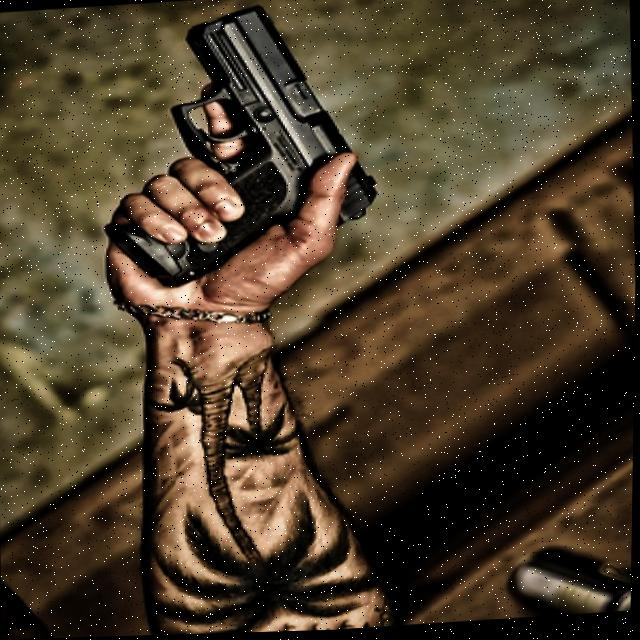pistol: (166, 0, 390, 244)
